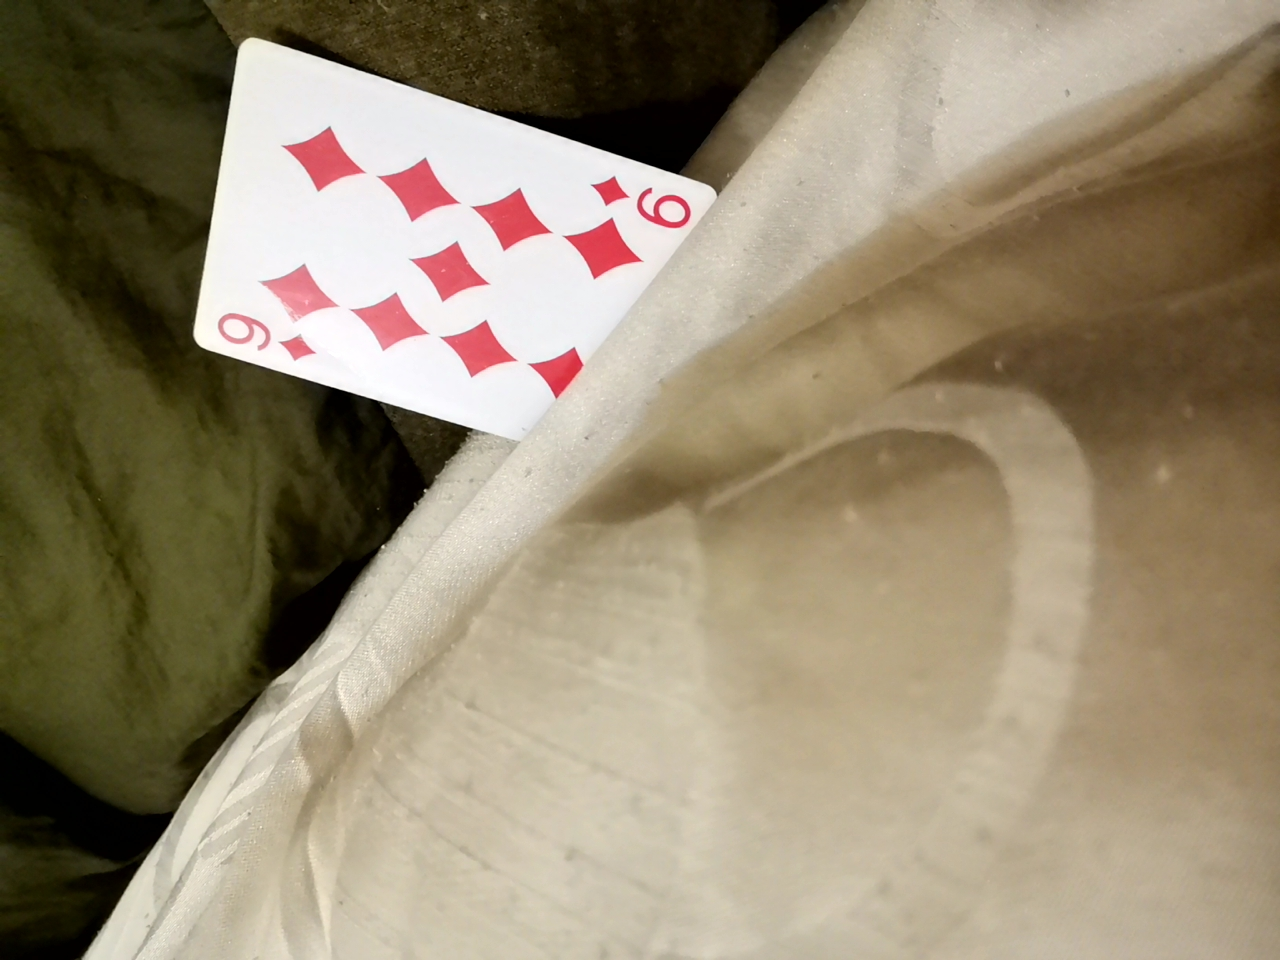fk 9: (198, 28, 715, 465)
